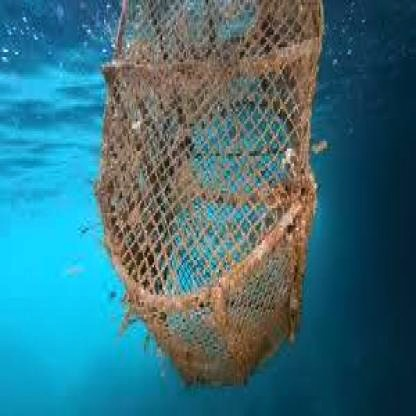net: (101, 2, 318, 393)
